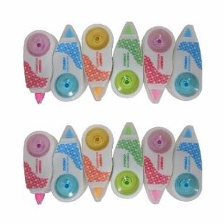correction_fluid: (162, 123, 204, 203), (48, 23, 89, 104), (49, 122, 89, 204), (139, 123, 179, 205), (163, 22, 204, 102), (20, 127, 61, 206), (139, 24, 178, 105), (20, 28, 61, 105), (79, 121, 117, 204), (107, 119, 144, 202), (80, 22, 117, 102), (109, 19, 146, 99)
